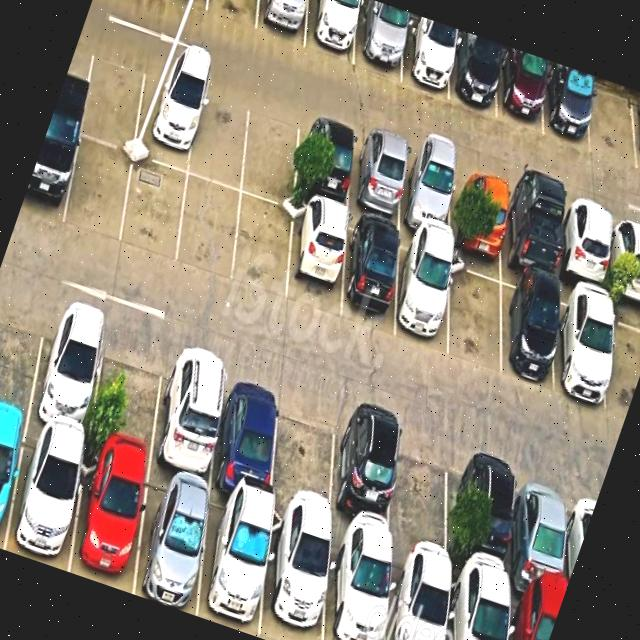empty: (89, 319, 167, 465), (271, 382, 338, 527), (392, 420, 456, 567), (64, 136, 134, 244), (80, 39, 147, 151), (120, 155, 187, 266), (176, 175, 240, 282), (241, 95, 301, 209), (188, 78, 249, 190), (0, 281, 49, 420), (231, 195, 291, 301), (448, 253, 500, 373), (589, 76, 636, 169), (609, 299, 640, 419), (206, 0, 259, 30)
occupied: (5, 424, 85, 572), (27, 296, 107, 443), (70, 446, 147, 594), (133, 467, 209, 616), (196, 489, 271, 637), (151, 340, 227, 486), (332, 401, 401, 548), (211, 361, 282, 503), (260, 510, 329, 640), (459, 442, 519, 586), (133, 58, 202, 172), (512, 459, 567, 602), (286, 198, 347, 317), (324, 533, 390, 640), (340, 215, 399, 333), (554, 283, 609, 407), (395, 233, 449, 355), (19, 120, 80, 225), (502, 269, 554, 386), (296, 112, 355, 210), (386, 550, 448, 640), (505, 180, 557, 280), (350, 129, 404, 225), (453, 163, 504, 260), (401, 145, 453, 239), (496, 44, 546, 134), (448, 31, 499, 117), (543, 60, 590, 152), (448, 569, 508, 640), (563, 197, 607, 291), (401, 14, 449, 99), (353, 0, 403, 80), (0, 416, 27, 549), (304, 0, 359, 65), (507, 587, 562, 640), (610, 212, 640, 301), (256, 0, 308, 48)
